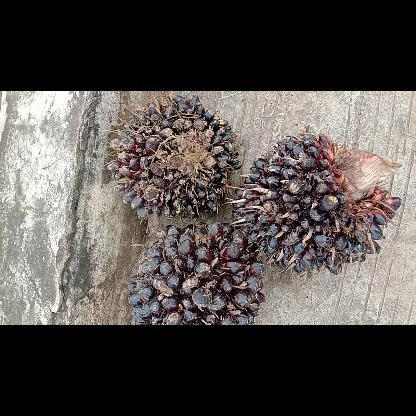TBS mentah: (232, 128, 406, 280), (107, 94, 244, 222), (126, 218, 268, 324)
